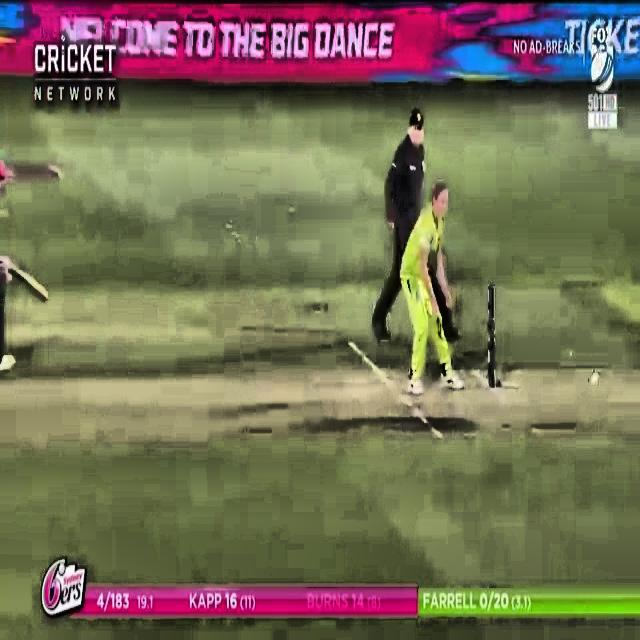Ball: (580, 360, 609, 394)
Bat: (0, 254, 50, 316)
Pitch_Line: (344, 339, 399, 393), (394, 388, 443, 441)
Undis_Wicket: (479, 273, 511, 391)
